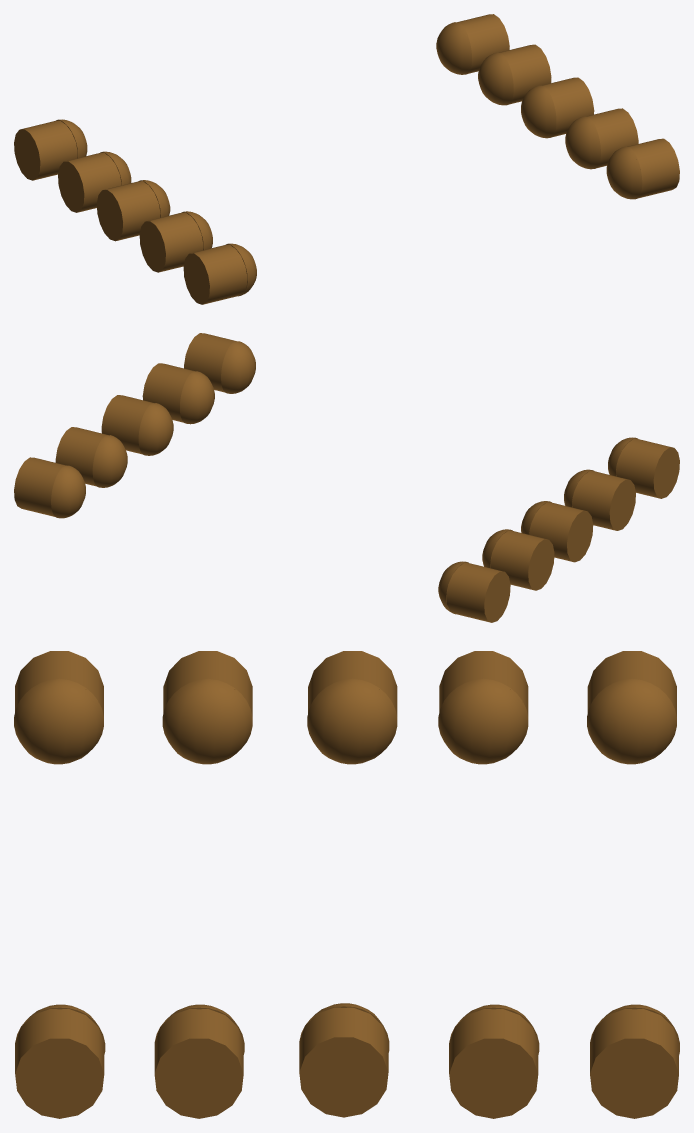
The model's file is knoppen_wire.fbx.
3 views of the same model, one above another, from view 1: azimuth 30°, elevation 25°; view 2: azimuth 150°, elevation 25°; view 3: azimuth 270°, elevation 25° (orthographic). The views are drawn at different scales.
Parts seen in each view (by area): view 1: group11, pCylinder20, pCylinder16, pCylinder19, pCylinder14, pCylinder13, pCylinder18, pCylinder15, pCylinder12, pCylinder17; view 2: pCylinder16, pCylinder15, pCylinder13, pCylinder17, pCylinder20, pCylinder19, pCylinder12, pCylinder14, group11, pCylinder18; view 3: pCylinder12, pCylinder13, pCylinder14, group11, pCylinder19, pCylinder16, pCylinder18, pCylinder17, pCylinder15, pCylinder20.
Part boxes in pixels (x1,y1,x2,y2): group11: (606,138,679,199); pCylinder20: (183,243,256,304); pCylinder16: (14,119,87,180); pCylinder19: (139,211,212,272); pCylinder14: (478,44,551,105); pCylinder13: (521,77,594,138); pCylinder18: (96,180,170,241); pCylinder15: (436,14,509,74); pCylinder12: (565,108,638,169); pCylinder17: (58,151,131,212); pCylinder16: (438,561,510,622); pCylinder15: (14,457,85,518); pCylinder13: (101,395,173,455); pCylinder17: (482,529,554,590); pCylinder20: (608,437,679,498); pCylinder19: (564,469,635,530); pCylinder12: (142,363,214,424); pCylinder14: (55,427,127,487); group11: (184,333,255,393); pCylinder18: (521,501,593,562); pCylinder12: (154,1004,244,1118); pCylinder13: (299,1003,389,1117); pCylinder14: (449,1004,539,1118); group11: (15,1004,105,1118); pCylinder19: (162,651,252,764); pCylinder16: (587,651,676,764); pCylinder18: (307,651,397,764); pCylinder17: (438,651,528,764); pCylinder15: (590,1004,679,1118); pCylinder20: (14,651,103,764).
Bounding box in the file's own units: 1.49 × 0.1476 × 1.08.
